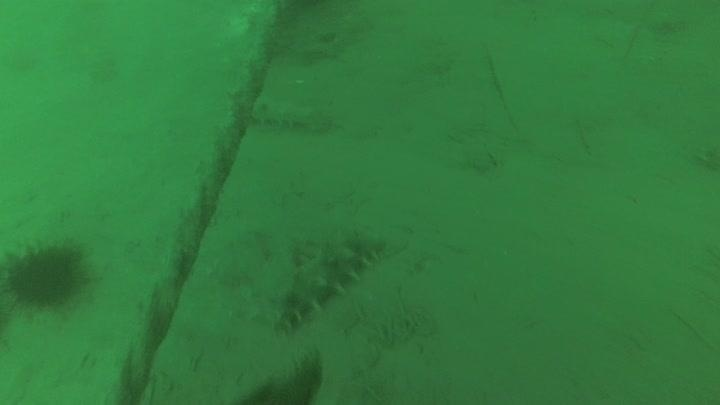echinus: (1, 235, 92, 312)
holothurian: (271, 228, 388, 331), (248, 97, 329, 134)
